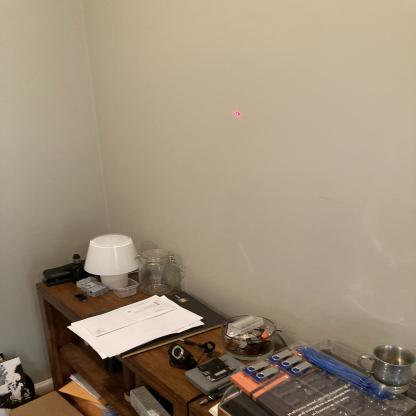target: (230, 107, 247, 120)
